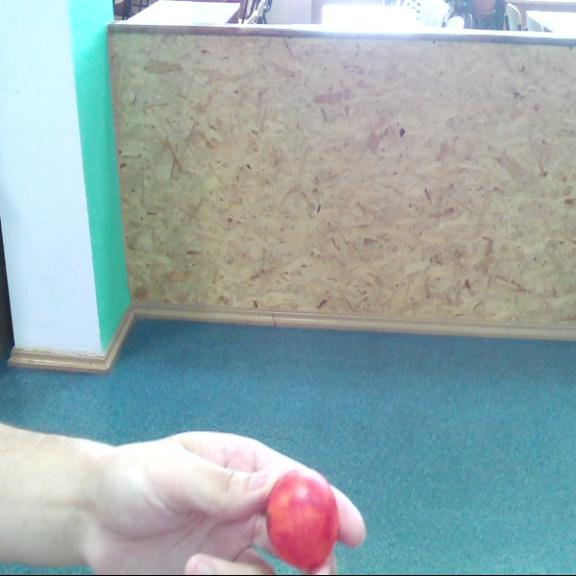ball: (267, 469, 339, 568)
